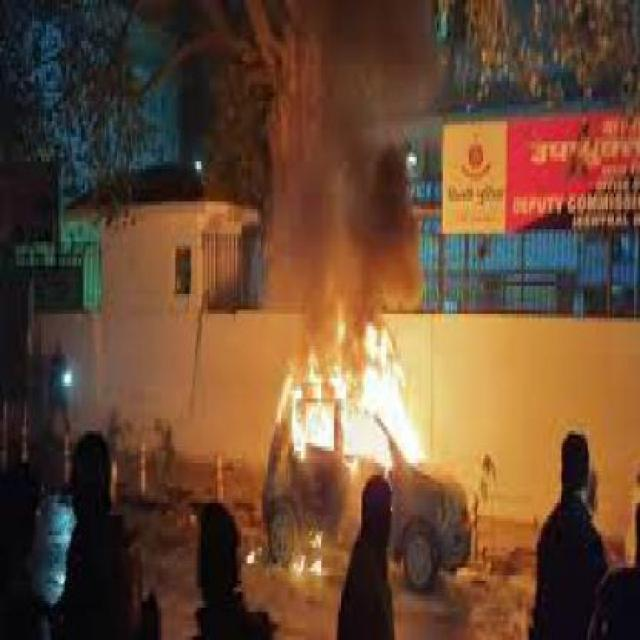Fire: (358, 318, 424, 477), (301, 403, 354, 449), (277, 364, 297, 452), (306, 362, 326, 396), (332, 366, 354, 392), (310, 553, 326, 576), (308, 523, 324, 545), (294, 554, 306, 578)
Smoke: (260, 0, 455, 374)
